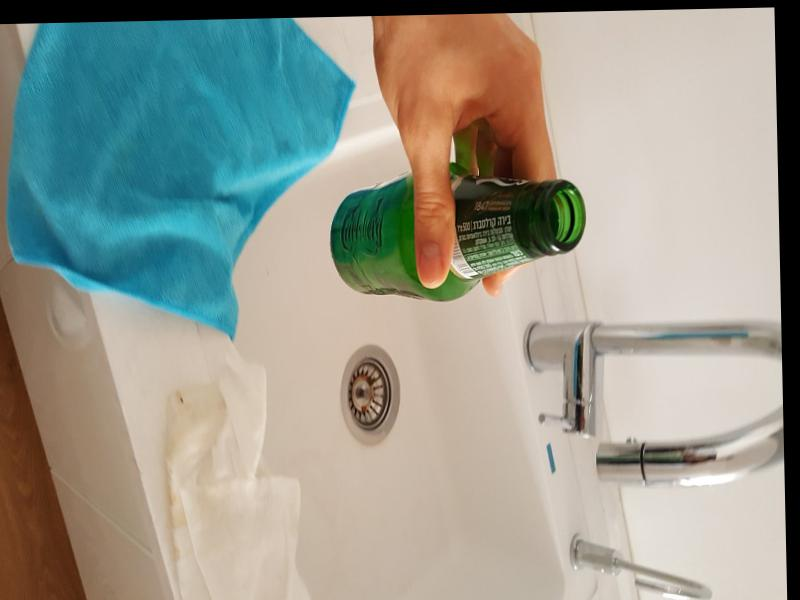Beer: (327, 162, 586, 305)
